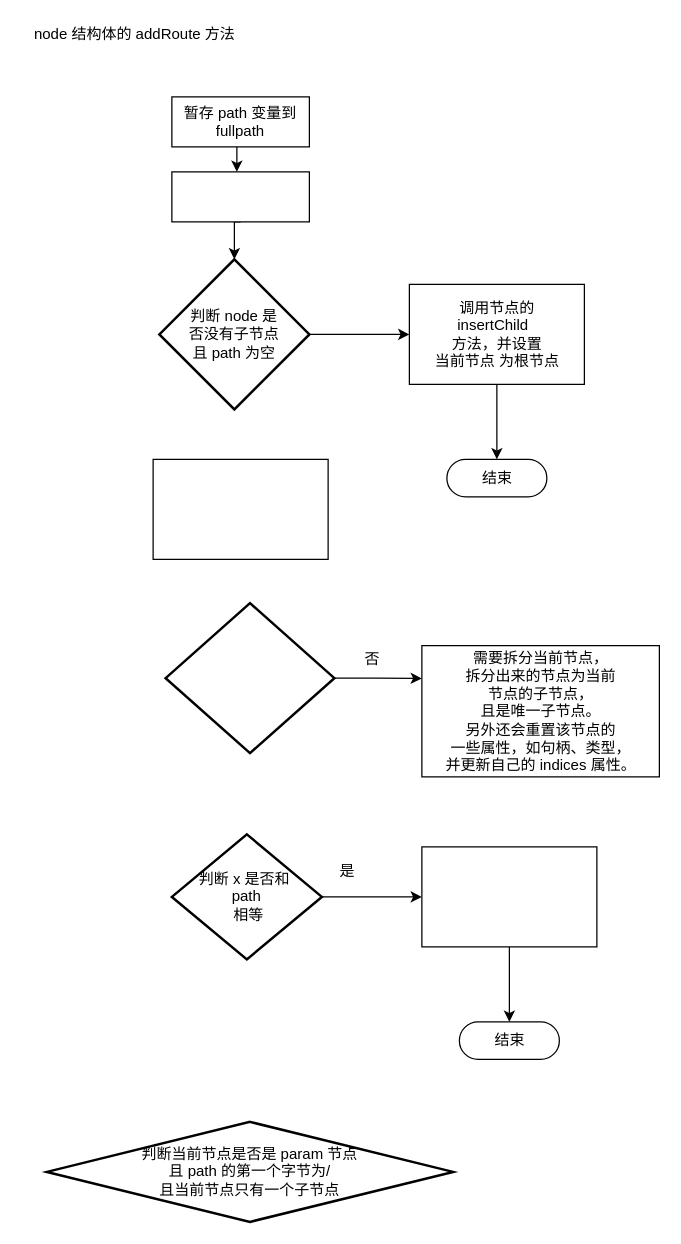
This 681x1244 diagram has some shape labels left out. Each missing label, with the box of its shape:
node 节点优先级 自增: (171, 171, 309, 222)
判断 x 是否 是节点的 path: (164, 601, 335, 754)
查找 path 和节点 的 path 属性开头 的共同字符串 x: (152, 458, 328, 559)
相等，说明 path 是节点老 path 的子节点，更新节点 的 handler 即可。: (421, 846, 597, 947)
